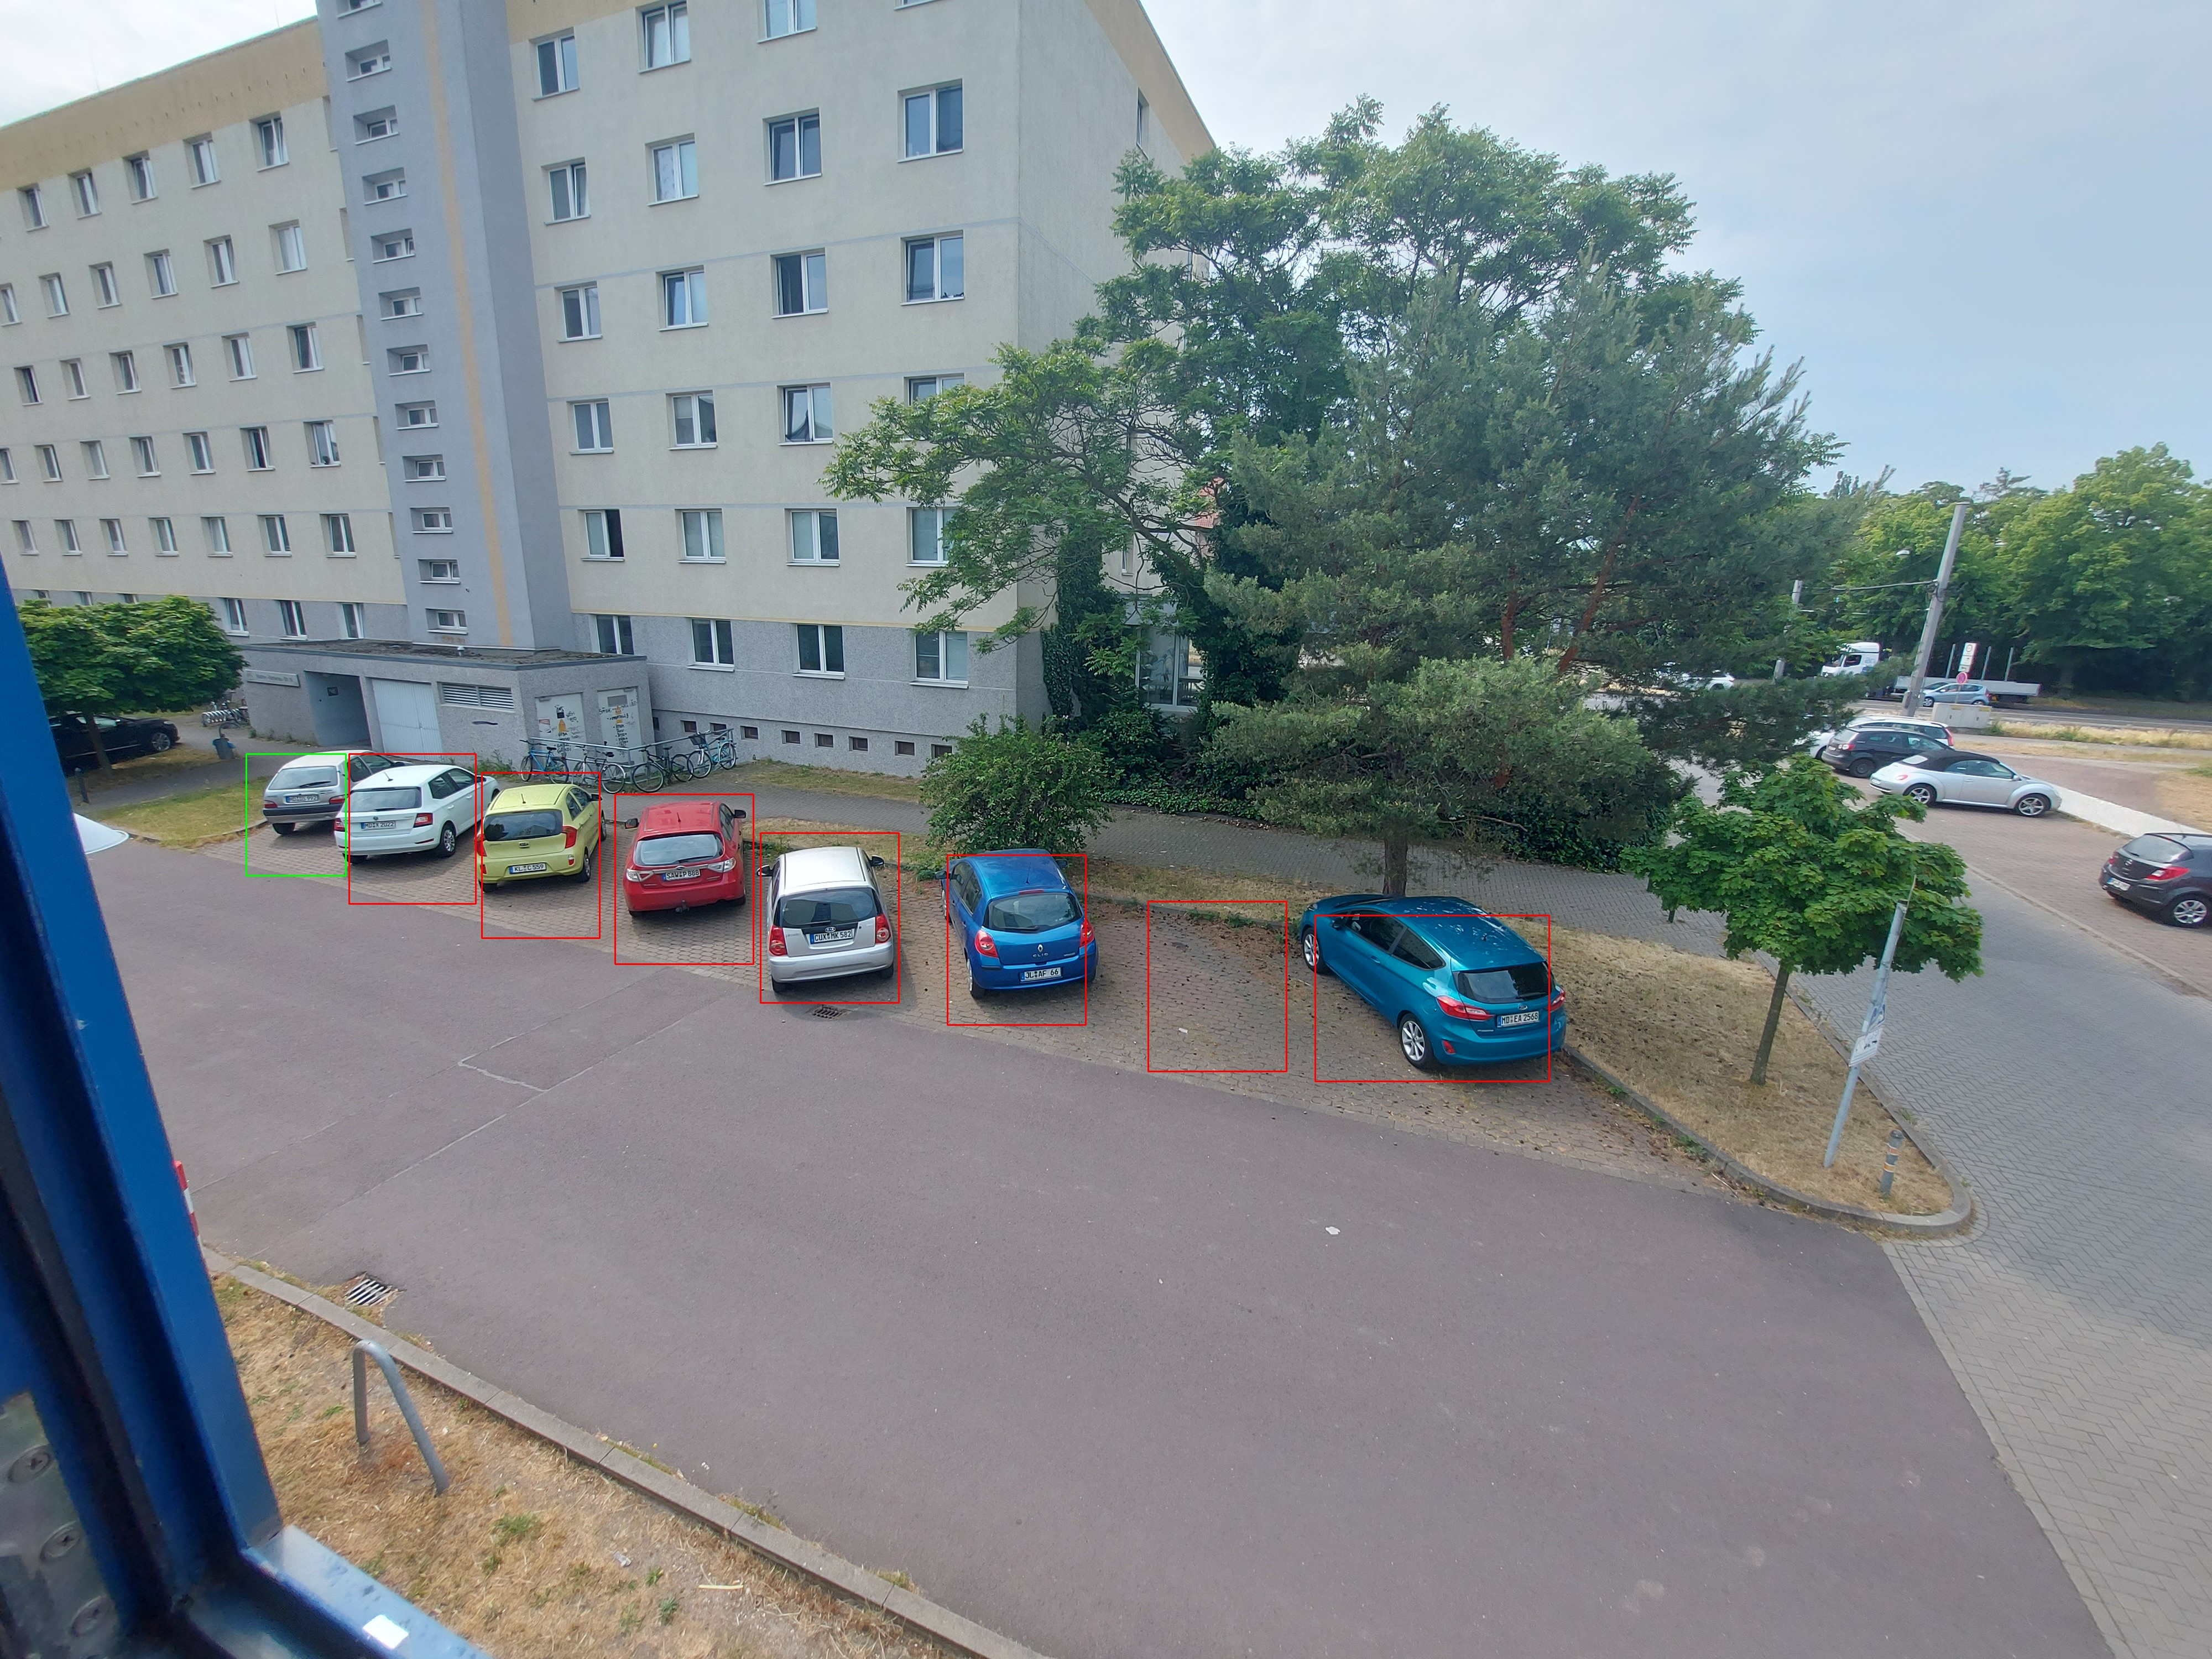spot: (1315, 915, 1548, 1080), (1148, 901, 1287, 1072), (615, 795, 752, 964), (761, 833, 899, 1002), (948, 856, 1085, 1025), (482, 772, 599, 938), (348, 755, 475, 904), (246, 755, 345, 875)
